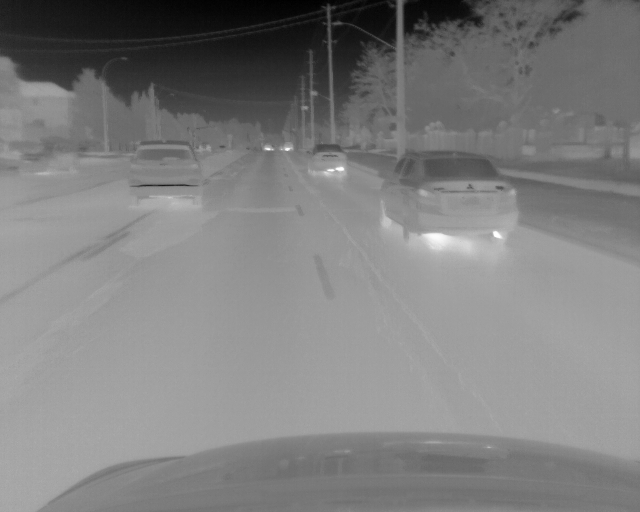car: (377, 151, 513, 244), (127, 141, 204, 209), (304, 144, 346, 175)
